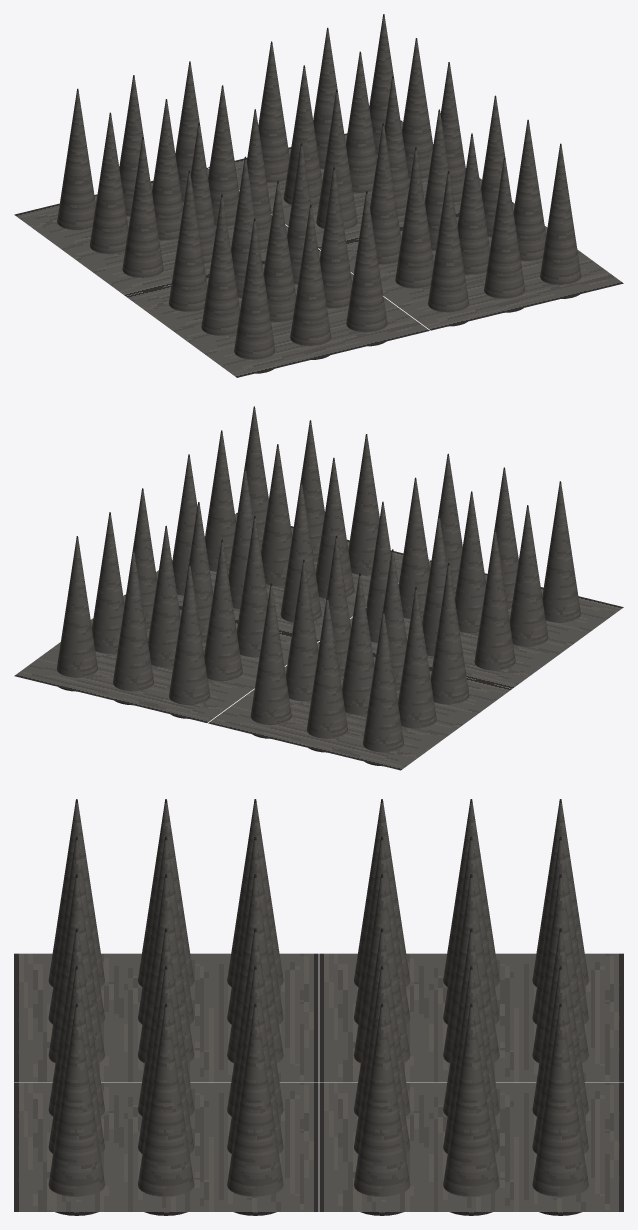
Rendered from SM_DeathTrap.fbx.
The picture shows the model from 3 angles, top to bottom: view 1: azimuth 30°, elevation 25°; view 2: azimuth 150°, elevation 25°; view 3: azimuth 270°, elevation 25°; orthographic projection. The views are drawn at different scales.
Parts seen in each view (by area): view 1: Plane001; view 2: Plane001; view 3: Plane001.
Part boxes in pixels (<box>): Plane001: <box>14,14,623,377</box>; Plane001: <box>14,406,623,770</box>; Plane001: <box>14,799,623,1215</box>.
Size of the model in its own units: 241 by 86.57 by 240.
Materials: 1 (1 with a texture image).
